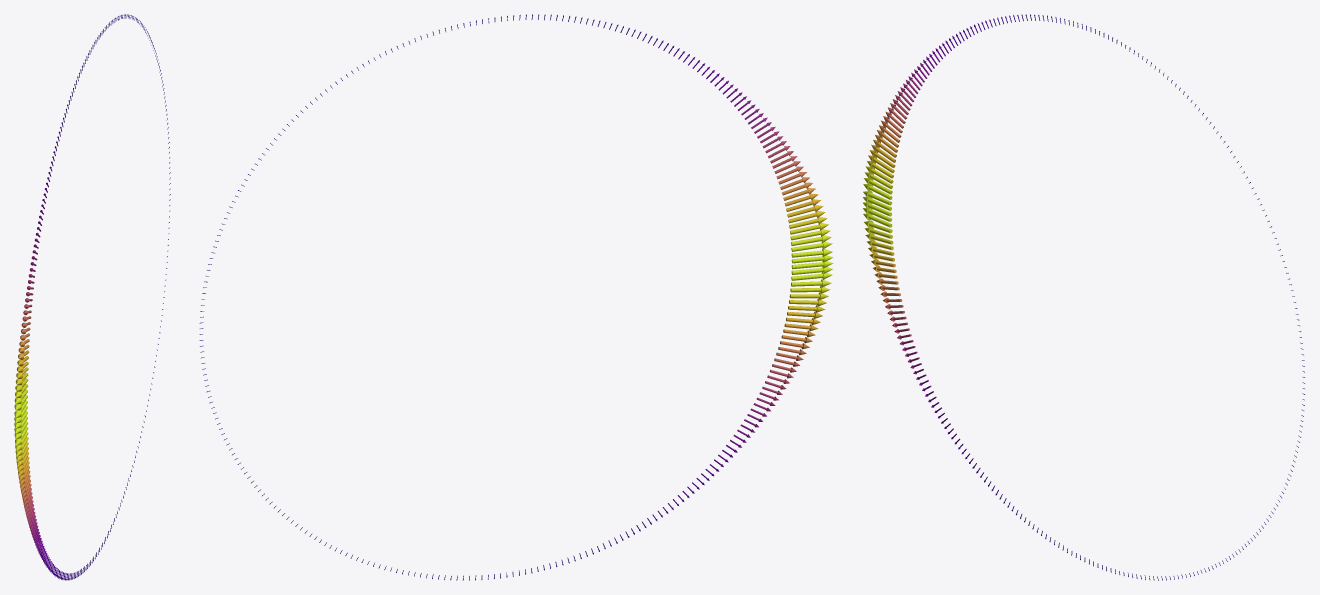
File: coil_2_forces.gltf
3 renders of one model, left to right at view 1: azimuth 30°, elevation 25°; view 2: azimuth 150°, elevation 25°; view 3: azimuth 270°, elevation 25°, orthographic. The views are drawn at different scales.
Parts seen in each view (by area): view 1: Renderer Node; view 2: Renderer Node; view 3: Renderer Node.
Part boxes in pixels (x1,y1,x2,y2): Renderer Node: (14,14,170,580); Renderer Node: (199,14,833,580); Renderer Node: (862,14,1304,580).
Size of the model in its own units: 0.4567 by 0.6118 by 0.4572.
Materials: 1 (1 with a texture image).
